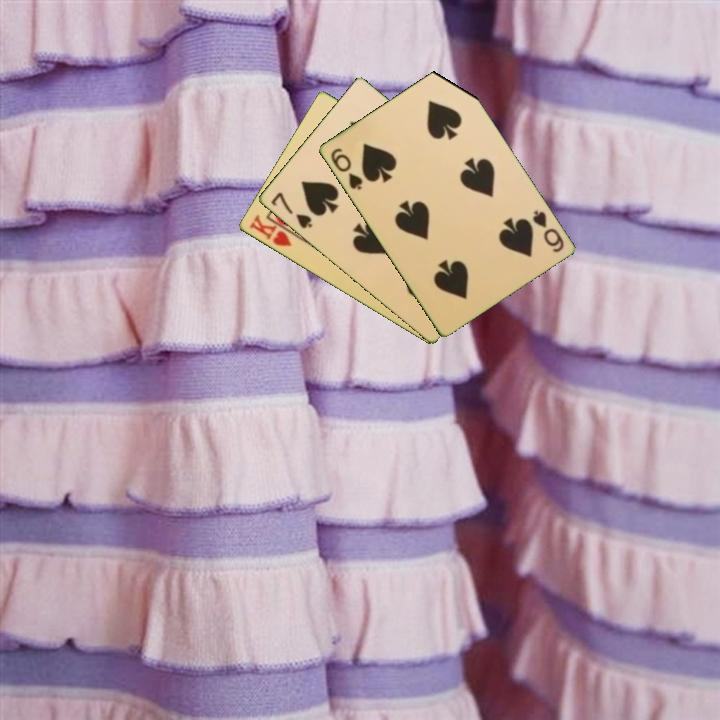6s: (528, 206, 567, 255), (327, 144, 365, 193)
7s: (267, 189, 315, 232)
Kh: (246, 211, 302, 250)
